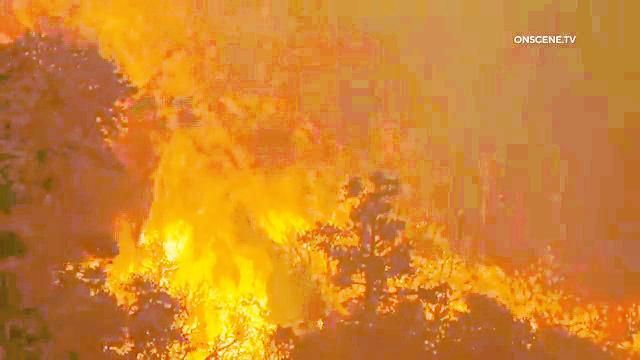fire: (273, 171, 624, 360), (101, 81, 294, 360)
